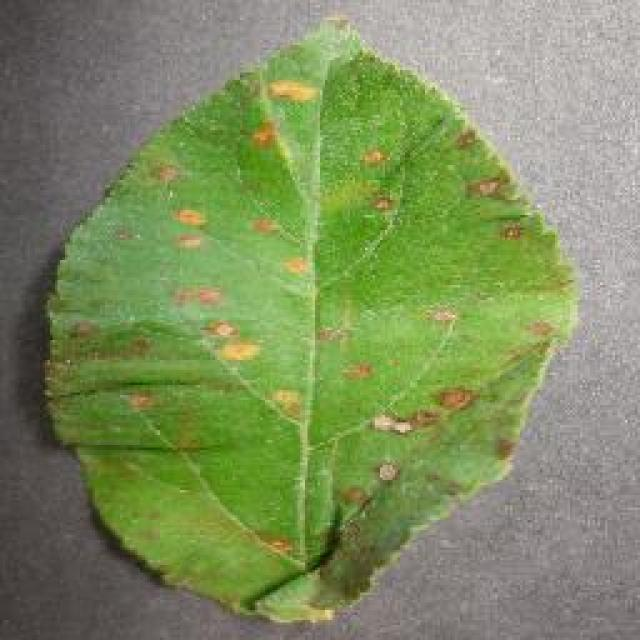apple scab disease: (38, 13, 580, 625)
